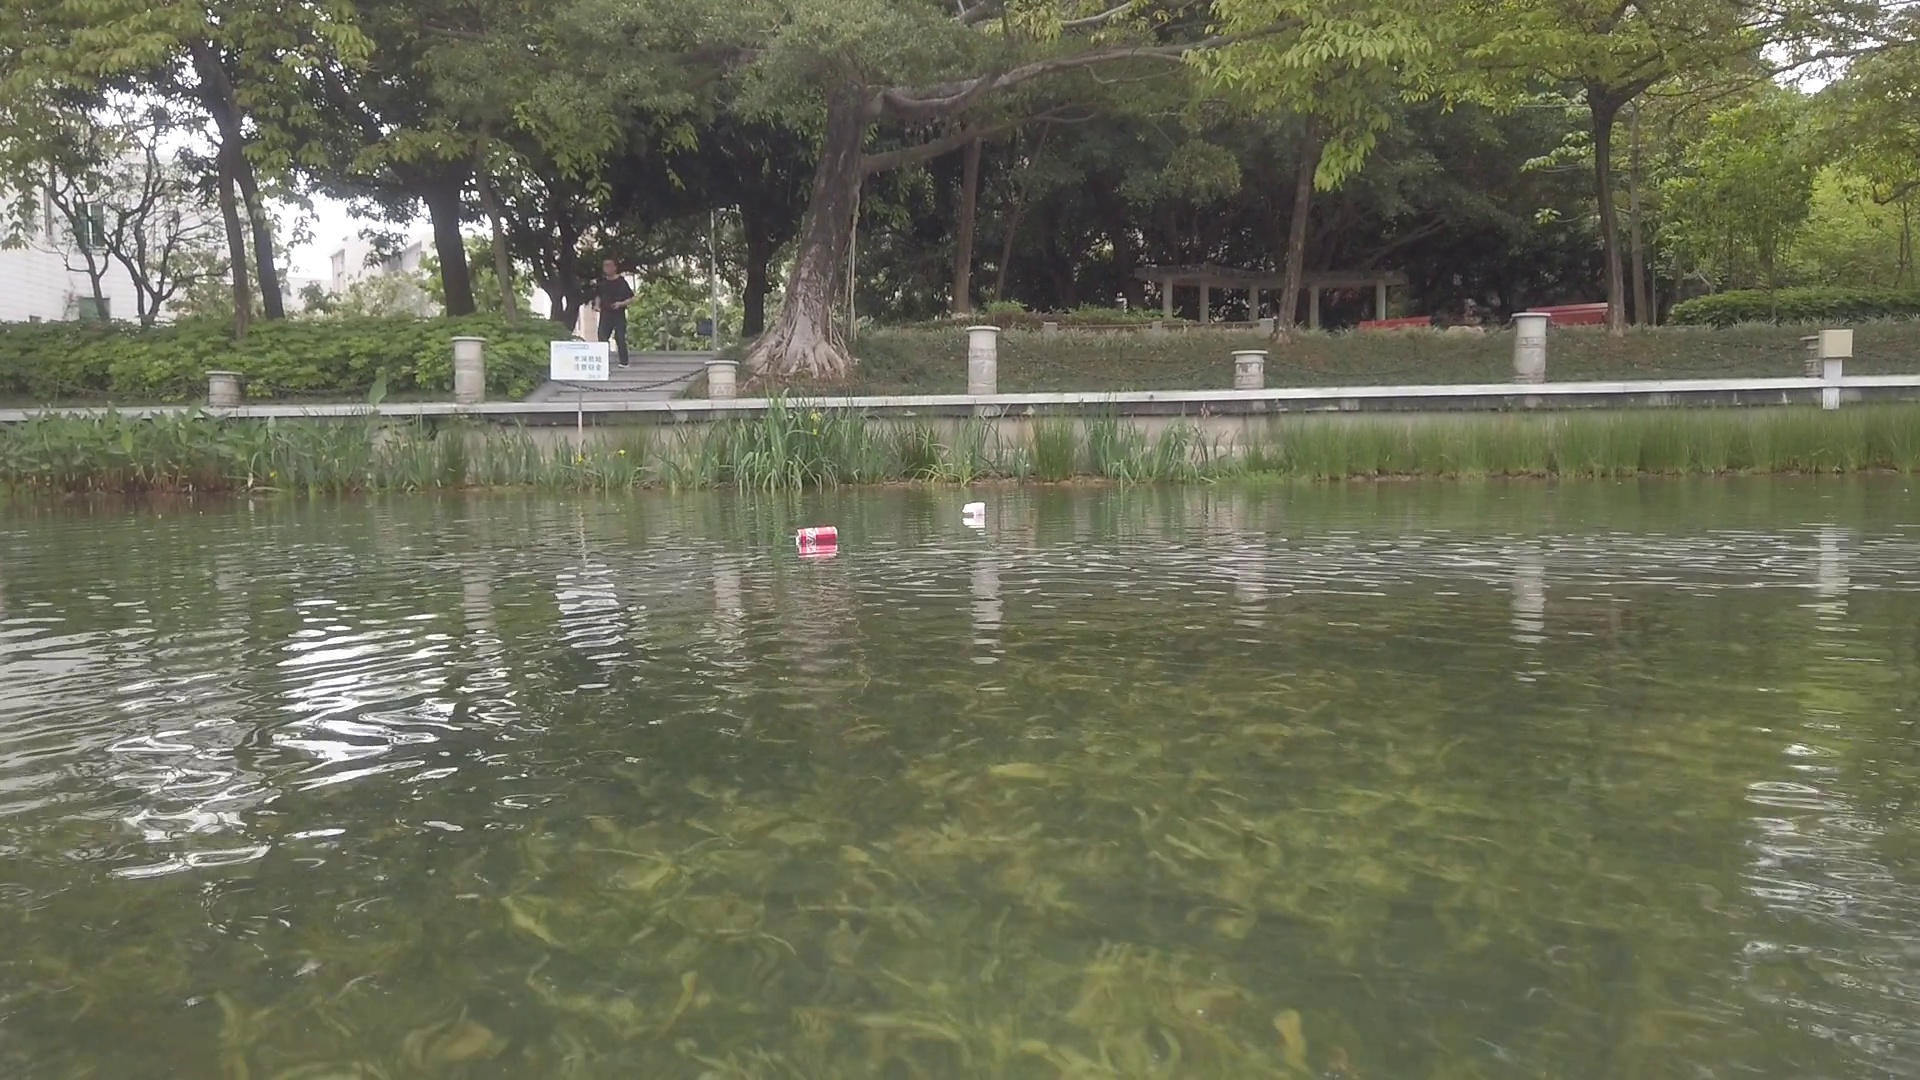bottle: (798, 526, 839, 547)
carton: (963, 500, 985, 522)
